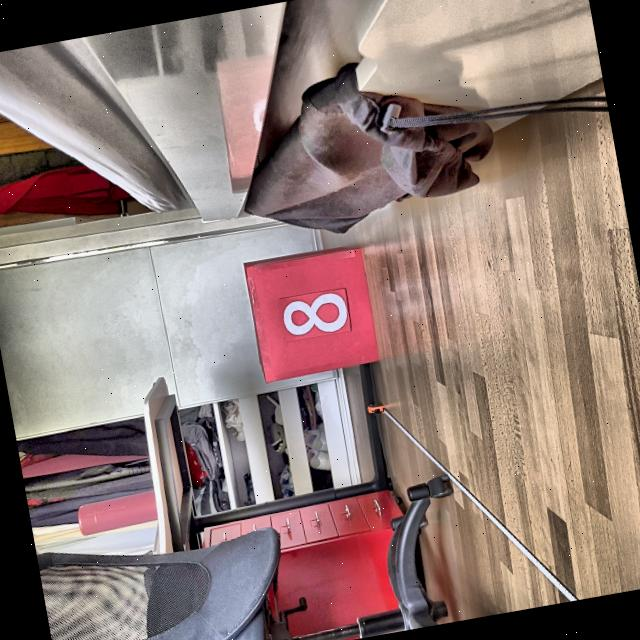eight: (280, 289, 352, 340)
red box: (242, 242, 380, 382)
